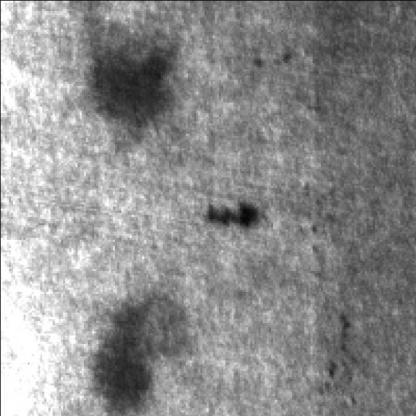patches: (89, 27, 177, 143), (98, 293, 183, 412)
